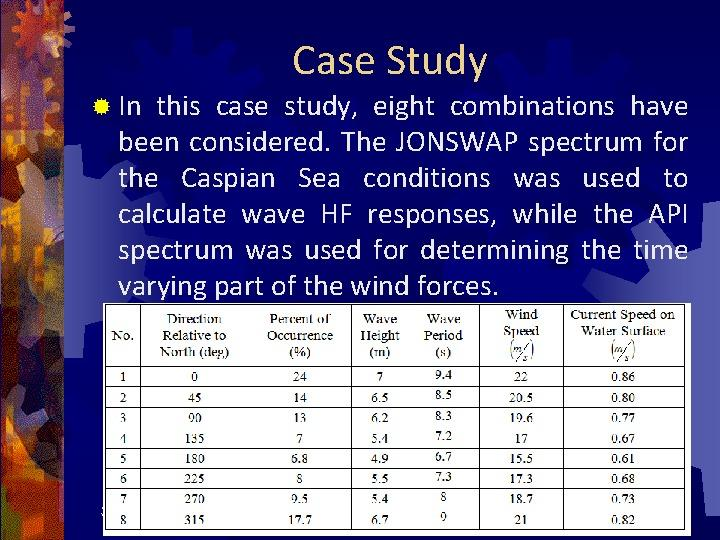paragraph: (81, 87, 710, 540)
title: (282, 31, 501, 91)
